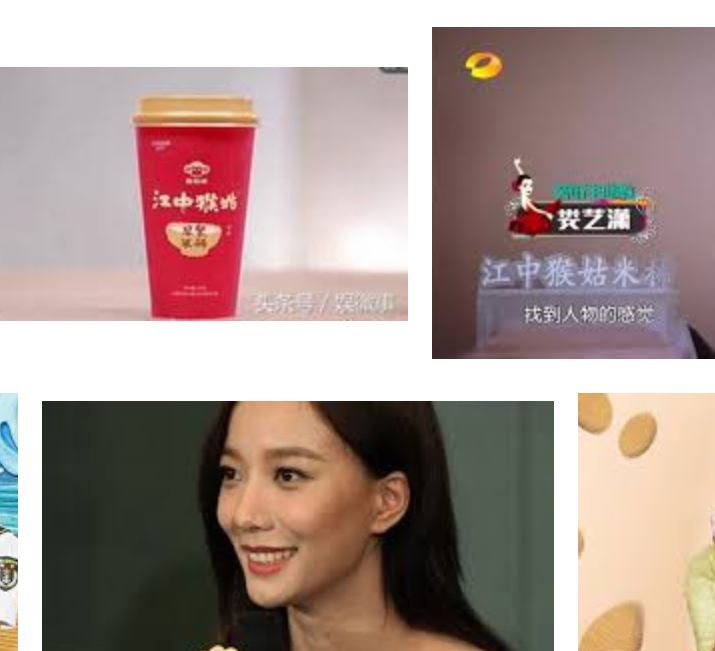cup: (134, 96, 255, 321)
